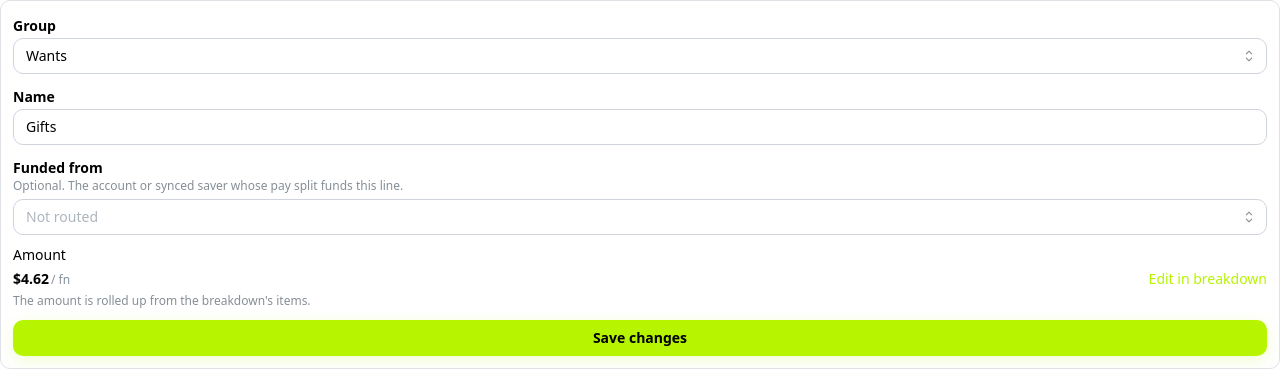
DerivedBudgetLineForm › keeps submit disabled and ignores a submit while the name is blank
The image size is (1280, 386).
Clear the field labelled "Name" at (640, 127), box [13,109,1267,145]
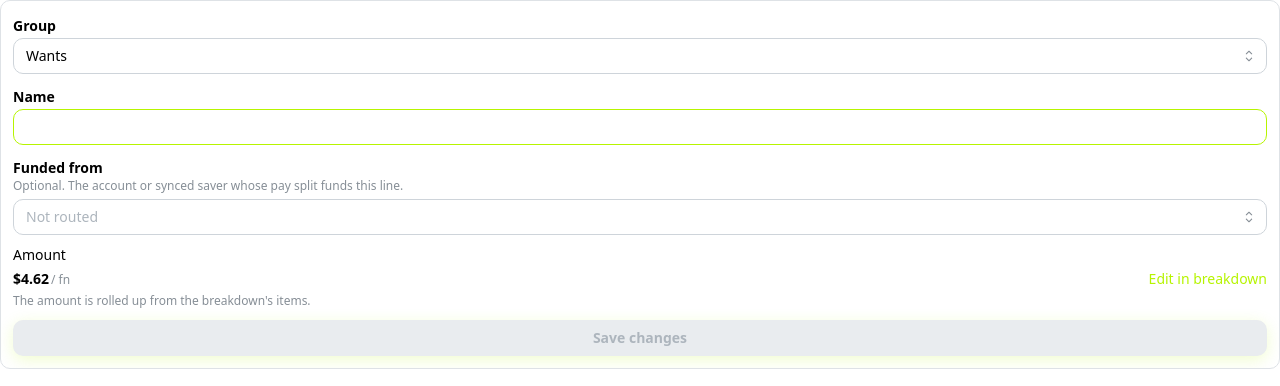
Expected: the button "Save changes" is disabled, [13,320,1267,356]
